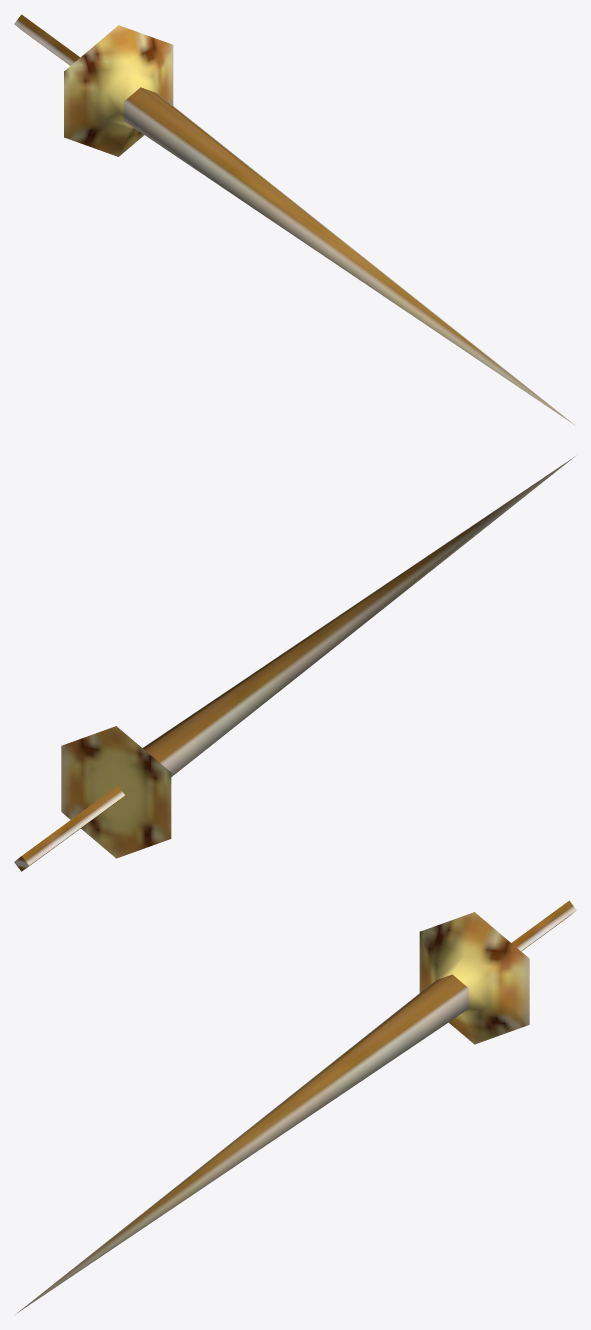
Rendered from zhanmao.FBX.
3 views of the same model, one above another, from view 1: azimuth 30°, elevation 25°; view 2: azimuth 150°, elevation 25°; view 3: azimuth 330°, elevation 25° (orthographic).
Parts seen in each view (by area): view 1: Spear03; view 2: Spear03; view 3: Spear03.
Part boxes in pixels (x1,y1,x2,y2): Spear03: [14, 14, 575, 425]; Spear03: [14, 456, 575, 871]; Spear03: [15, 900, 576, 1314].
Size of the model in its own units: 66.48 by 76.76 by 584.
